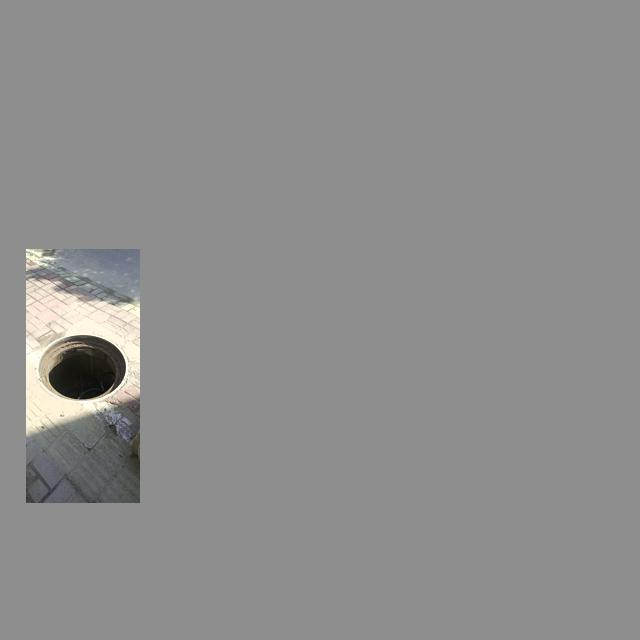lose: (37, 333, 129, 403)
